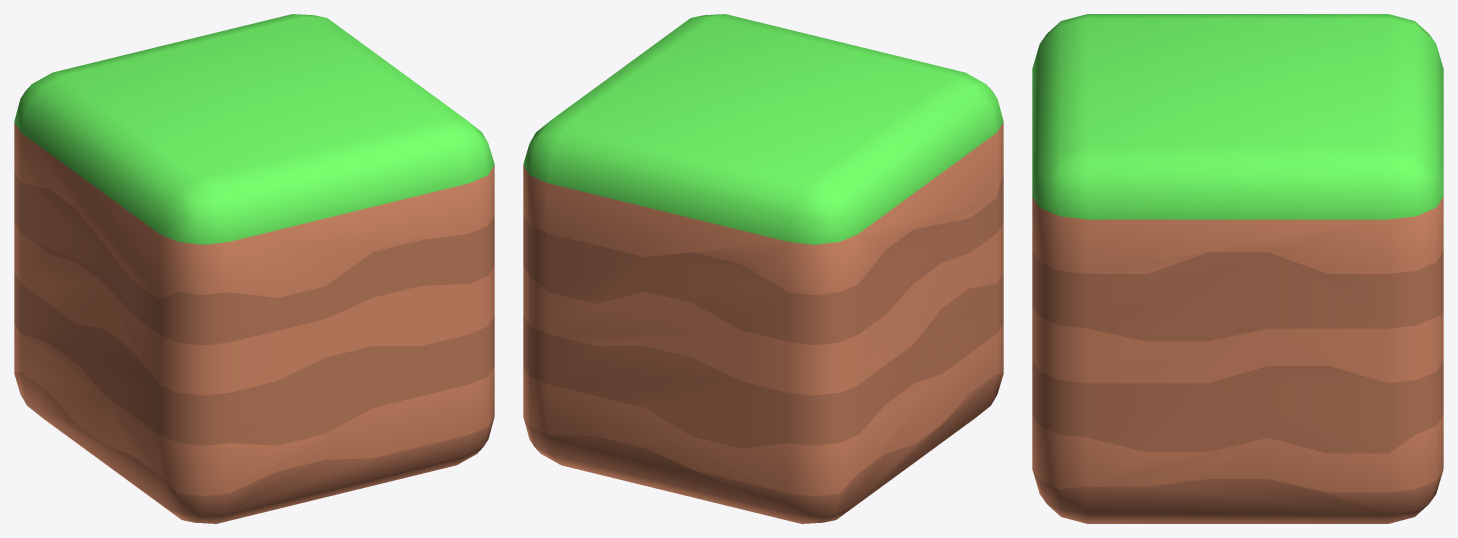
File: Stone023.fbx
3 renders of one model, left to right at view 1: azimuth 30°, elevation 25°; view 2: azimuth 150°, elevation 25°; view 3: azimuth 270°, elevation 25°, orthographic. The views are drawn at different scales.
Parts seen in each view (by area): view 1: Stone023; view 2: Stone023; view 3: Stone023.
Part boxes in pixels (x1,y1,x2,y2): Stone023: (14,14,494,523); Stone023: (523,14,1003,523); Stone023: (1032,14,1443,523).
Size of the model in its own units: 156 by 156 by 156.
